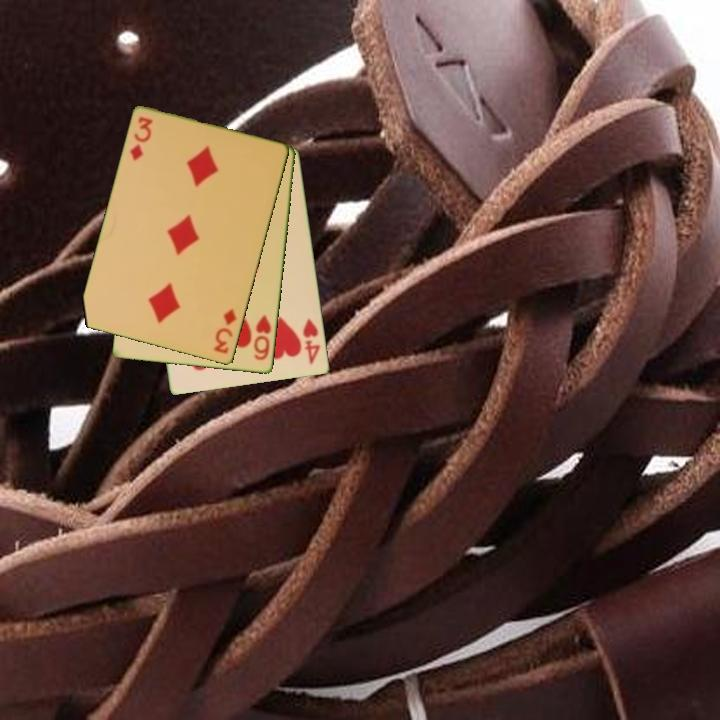3d: (210, 305, 240, 357), (126, 113, 156, 164)
4h: (299, 315, 323, 368)
6h: (251, 312, 274, 363)
